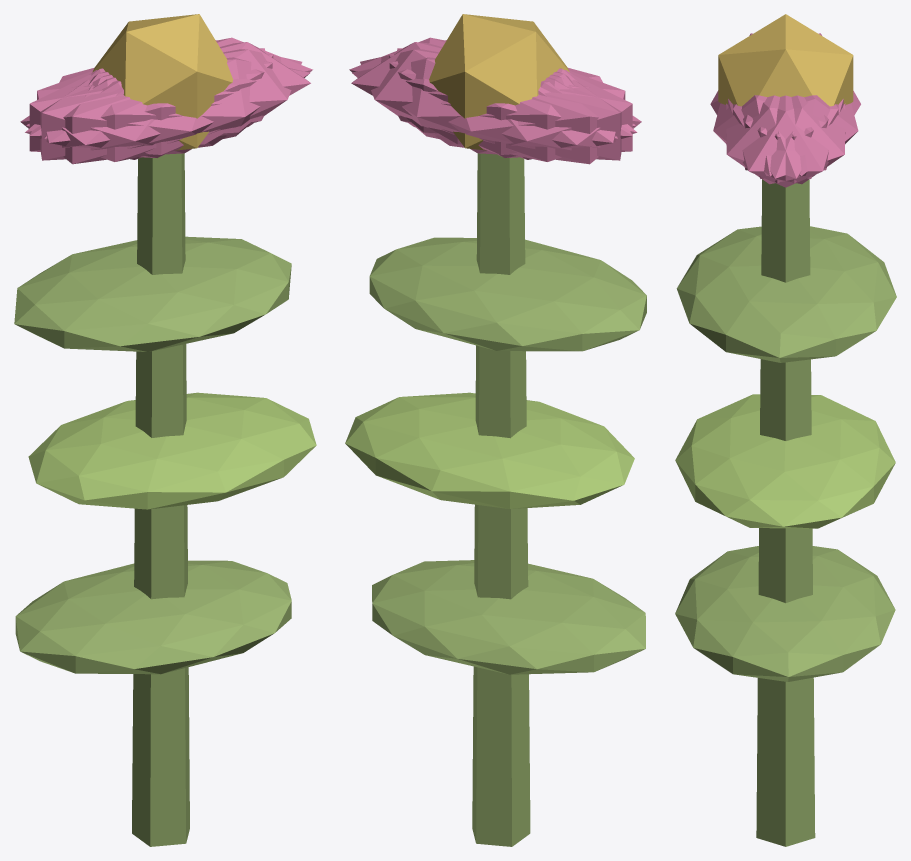
Rendered from cyathula-prostrata.glb.
3 renders of one model, left to right at view 1: azimuth 30°, elevation 25°; view 2: azimuth 150°, elevation 25°; view 3: azimuth 270°, elevation 25°, orthographic.
Visible parts, largest first — view 1: stem, leaf1, leaf2, leaf0, center, petal1, petal6, petal2, petal5, petal7, petal0, petal4 (+2 smaller); view 2: stem, leaf1, leaf2, leaf0, center, petal8, petal3, petal7, petal4, petal2, petal0, petal5 (+2 smaller); view 3: stem, leaf1, leaf2, leaf0, center, petal0, petal5, petal4, petal1, petal8.
Boxes of the visible parts, x1=… form: stem: x1=132, y1=153, x2=189, y2=846; leaf1: x1=28, y1=392, x2=316, y2=509; leaf2: x1=14, y1=236, x2=291, y2=351; leaf0: x1=15, y1=560, x2=291, y2=674; center: x1=92, y1=14, x2=233, y2=150; petal1: x1=25, y1=57, x2=310, y2=161; petal6: x1=20, y1=70, x2=226, y2=164; petal2: x1=40, y1=48, x2=265, y2=160; petal5: x1=44, y1=49, x2=302, y2=154; petal7: x1=29, y1=54, x2=273, y2=157; petal0: x1=92, y1=42, x2=310, y2=144; petal4: x1=26, y1=37, x2=312, y2=136; stem: x1=472, y1=153, x2=530, y2=846; leaf1: x1=345, y1=392, x2=634, y2=508; leaf2: x1=369, y1=237, x2=646, y2=351; leaf0: x1=372, y1=560, x2=645, y2=674; center: x1=429, y1=14, x2=569, y2=150; petal8: x1=352, y1=57, x2=637, y2=161; petal3: x1=435, y1=70, x2=641, y2=164; petal7: x1=397, y1=48, x2=621, y2=160; petal4: x1=360, y1=49, x2=617, y2=154; petal2: x1=389, y1=54, x2=632, y2=158; petal0: x1=351, y1=42, x2=569, y2=144; petal5: x1=349, y1=37, x2=635, y2=136; stem: x1=756, y1=179, x2=815, y2=846; leaf1: x1=675, y1=394, x2=895, y2=528; leaf2: x1=676, y1=226, x2=896, y2=362; leaf0: x1=675, y1=546, x2=895, y2=681; center: x1=718, y1=14, x2=853, y2=106; petal0: x1=728, y1=95, x2=843, y2=187; petal5: x1=726, y1=95, x2=838, y2=184; petal4: x1=733, y1=95, x2=845, y2=184; petal1: x1=713, y1=95, x2=828, y2=176; petal8: x1=743, y1=95, x2=858, y2=176.
Bounding box in the file's own units: 0.1498 × 0.4011 × 0.1005.
